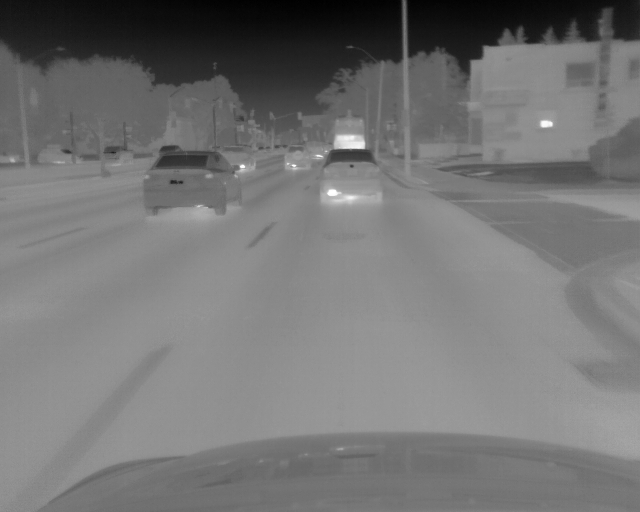car: (143, 149, 243, 216), (318, 149, 383, 205), (330, 115, 367, 151), (98, 144, 134, 167), (38, 145, 80, 164), (284, 142, 310, 171), (223, 148, 255, 171), (307, 140, 328, 162), (158, 143, 181, 159)
